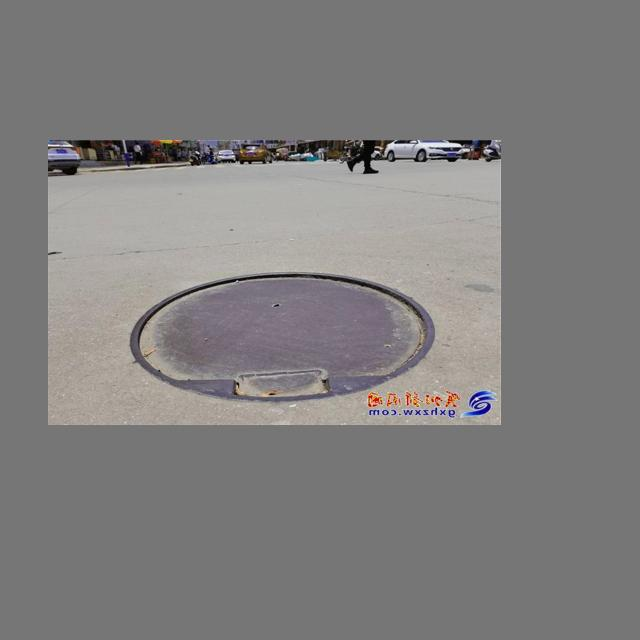good: (117, 262, 442, 406)
